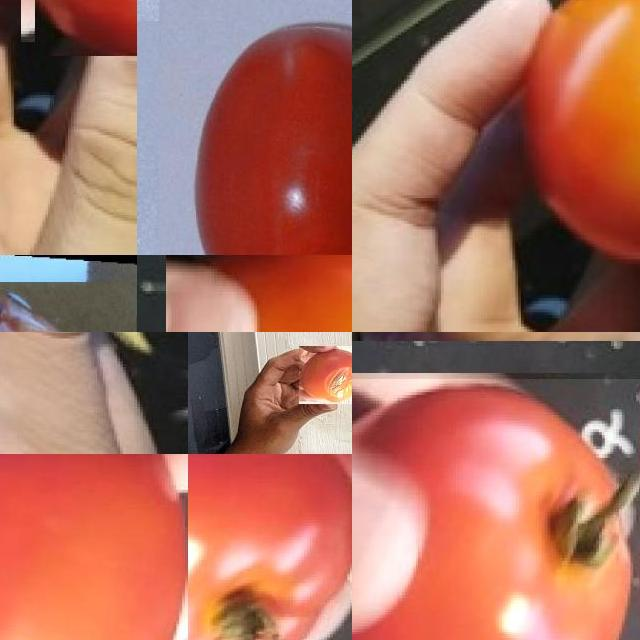Fresh Tomato: (352, 378, 640, 640), (0, 454, 188, 640), (188, 454, 352, 640)
Rotten Tomato: (299, 346, 352, 404)
